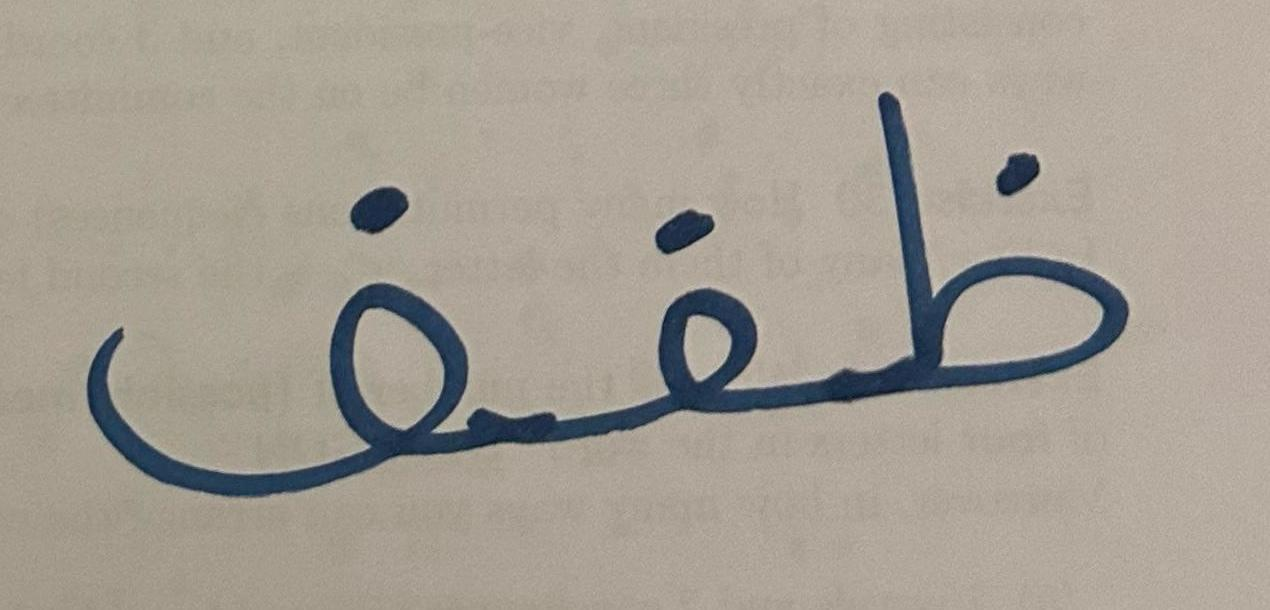feh: (43, 156, 514, 518), (517, 90, 795, 483)
zain: (799, 34, 1200, 447)
